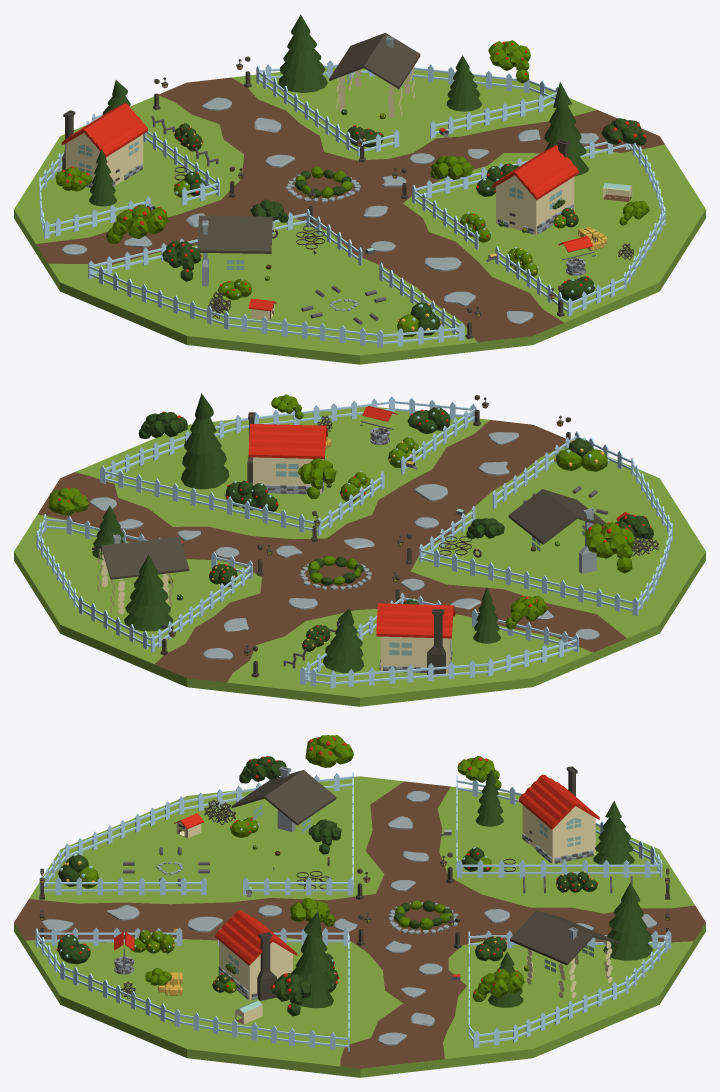
File: Low_Poly_Village.glb
The picture shows the model from 3 angles, top to bottom: view 1: azimuth 30°, elevation 25°; view 2: azimuth 150°, elevation 25°; view 3: azimuth 270°, elevation 25°; orthographic projection.
Parts seen in each view (by area): view 1: Ground_New grass_0, Ground_Dirt_0, Fence.001_White_0, Fence.003_White_0, Fence.002_White_0, House.002_Gray3_0, House_Gray3_0, Fence_White_0, House.003_Light yellow_0, Tree 1.002_Forest Green_0, House.003_Red_0, House.001_Red_0 (+16 smaller); view 2: Ground_New grass_0, Ground_Dirt_0, Fence.003_White_0, Fence.001_White_0, Fence_White_0, Fence.002_White_0, Tree 2.002_Forest Green_0, House_Gray3_0, House.003_Red_0, House.002_Gray3_0, House.001_Red_0, Tree 1.002_Forest Green_0 (+22 smaller); view 3: Ground_New grass_0, Ground_Dirt_0, Fence.001_White_0, Fence.003_White_0, Fence.002_White_0, Fence_White_0, House_Gray3_0, House.002_Gray3_0, House.001_Light yellow_0, Tree 1.002_Forest Green_0, Tree 2.002_Forest Green_0, House.001_Red_0 (+20 smaller).
Part boxes in pixels (x1,y1,x2,y2): Ground_New grass_0: (14, 67, 705, 364); Ground_Dirt_0: (36, 77, 664, 342); Fence.001_White_0: (88, 209, 464, 347); Fence.003_White_0: (412, 140, 665, 316); Fence.002_White_0: (256, 60, 558, 156); House.002_Gray3_0: (197, 215, 274, 253); House_Gray3_0: (329, 33, 420, 88); Fence_White_0: (39, 113, 219, 238); House.003_Light yellow_0: (496, 175, 574, 234); Tree 1.002_Forest Green_0: (278, 14, 327, 92); House.003_Red_0: (492, 145, 578, 200); House.001_Red_0: (61, 103, 147, 157); Ground_New grass_0: (14, 406, 705, 706); Ground_Dirt_0: (38, 420, 626, 682); Fence.003_White_0: (100, 396, 476, 535); Fence.001_White_0: (419, 431, 672, 615); Fence_White_0: (300, 593, 578, 688); Fence.002_White_0: (36, 514, 252, 652); Tree 2.002_Forest Green_0: (181, 393, 229, 489); House_Gray3_0: (92, 537, 189, 579); House.003_Red_0: (248, 423, 327, 459); House.002_Gray3_0: (508, 489, 606, 544); House.001_Red_0: (376, 603, 455, 638); Tree 1.002_Forest Green_0: (124, 555, 173, 631); Ground_New grass_0: (14, 776, 705, 1077); Ground_Dirt_0: (14, 781, 705, 1068); Fence.001_White_0: (39, 772, 353, 895); Fence.003_White_0: (35, 928, 349, 1051); Fence.002_White_0: (468, 930, 671, 1048); Fence_White_0: (456, 776, 662, 877); House_Gray3_0: (510, 911, 618, 965); House.002_Gray3_0: (231, 770, 336, 825); House.001_Light yellow_0: (522, 805, 595, 863); Tree 1.002_Forest Green_0: (603, 882, 652, 960); Tree 2.002_Forest Green_0: (290, 911, 333, 1008); House.001_Red_0: (519, 774, 599, 829).
Bounding box in the file's own units: 48.89 × 8.45 × 48.88.
